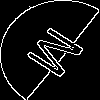M: (24, 25, 96, 86)
